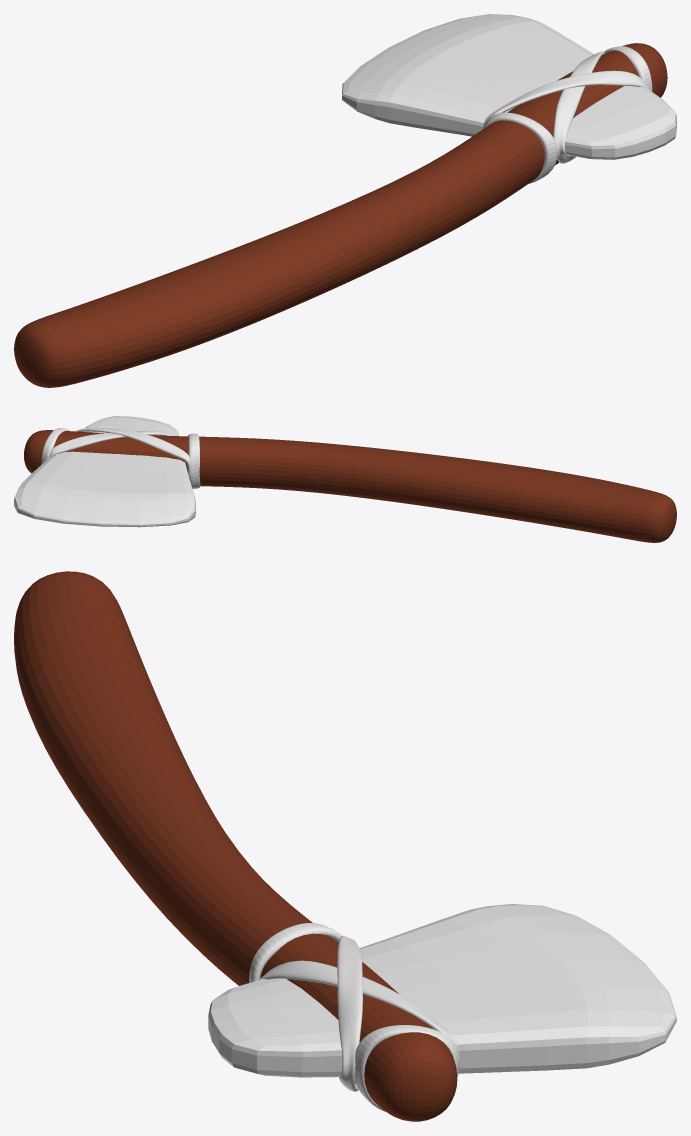
Rendered from axe_flint.fbx.
3 views of the same model, one above another, from view 1: azimuth 30°, elevation 25°; view 2: azimuth 150°, elevation 25°; view 3: azimuth 270°, elevation 25° (orthographic). The views are drawn at different scales.
Visible parts, largest first — view 1: Plane, Cube, Plane.002, Plane.001, Cube.002, Cube.001; view 2: Plane, Cube, Plane.002, Plane.001, Cube.002, Cube.001; view 3: Plane, Cube, Plane.002, Plane.001, Cube.001, Cube.002.
Part boxes in pixels (left/top/right/bottom): Plane: left=14, top=43, right=667, bottom=387; Cube: left=342, top=14, right=676, bottom=159; Plane.002: left=483, top=70, right=649, bottom=128; Plane.001: left=553, top=51, right=605, bottom=163; Cube.002: left=483, top=112, right=557, bottom=183; Cube.001: left=604, top=46, right=652, bottom=91; Plane: left=24, top=430, right=676, bottom=542; Cube: left=14, top=416, right=195, bottom=527; Plane.002: left=75, top=428, right=190, bottom=477; Plane.001: left=49, top=431, right=174, bottom=457; Cube.002: left=188, top=433, right=200, bottom=488; Cube.001: left=41, top=428, right=69, bottom=463; Plane: left=14, top=571, right=457, bottom=1121; Cube: left=208, top=904, right=676, bottom=1077; Plane.002: left=337, top=935, right=362, bottom=1091; Plane.001: left=259, top=960, right=457, bottom=1048; Cube.001: left=355, top=1025, right=460, bottom=1111; Cube.002: left=249, top=923, right=341, bottom=982.
Size of the model in its own units: 169 by 15.53 by 93.78.
